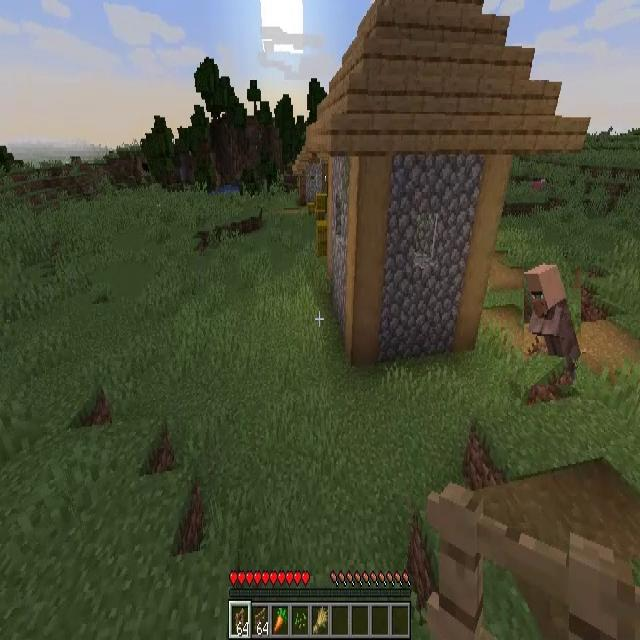people: (524, 262, 581, 385)
